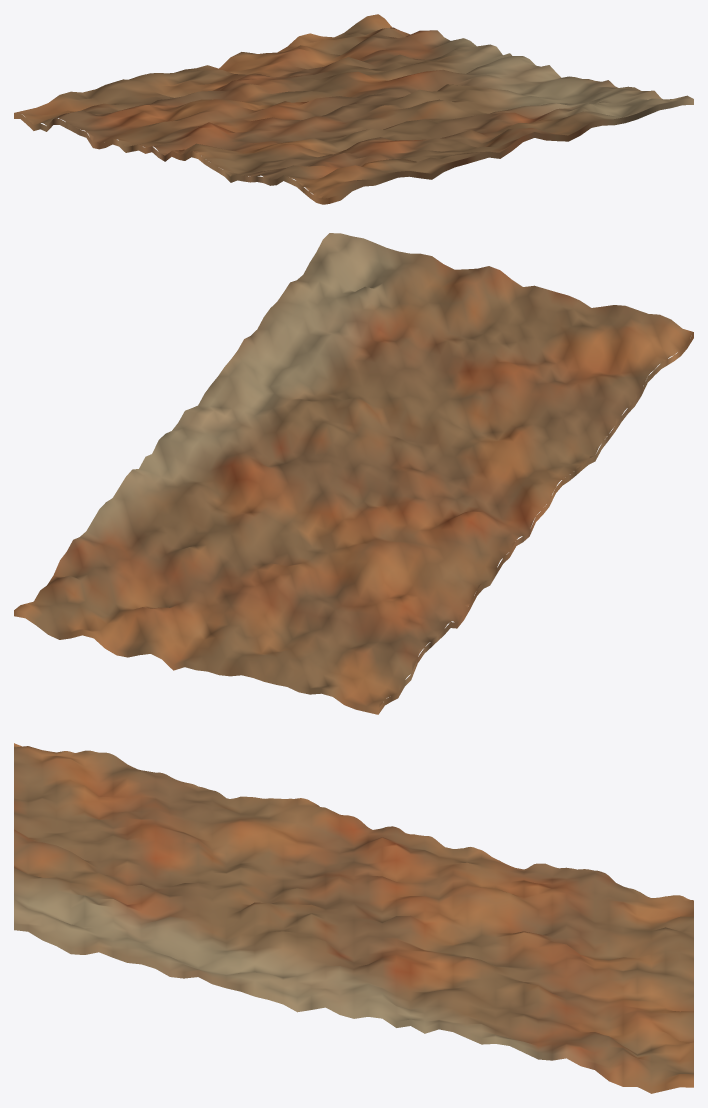
File: terrain-128.glb
3 renders of one model, top to bottom at view 1: azimuth 30°, elevation 25°; view 2: azimuth 150°, elevation 25°; view 3: azimuth 270°, elevation 25°, orthographic. The views are drawn at different scales.
Parts seen in each view (by area): view 1: terrain-128; view 2: terrain-128; view 3: terrain-128.
Boxes of the visible parts, <box> form: terrain-128: <box>14,14,693,204</box>; terrain-128: <box>14,233,693,714</box>; terrain-128: <box>14,743,693,1093</box>.
Size of the model in its own units: 256 by 117 by 384.
